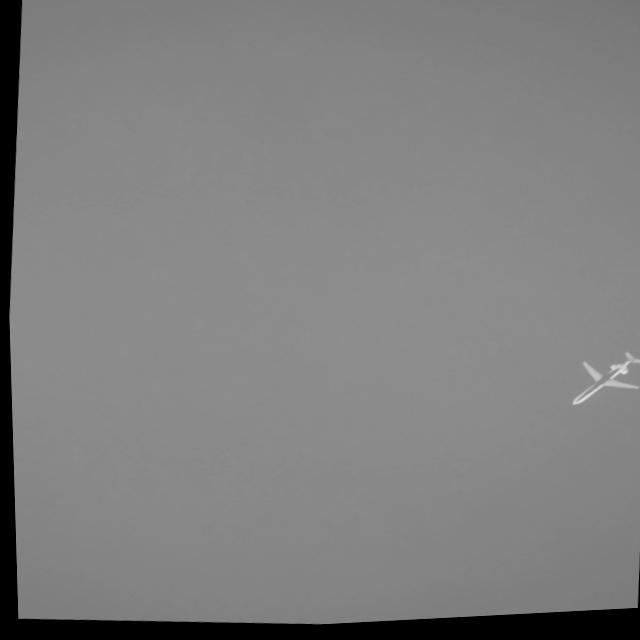aeroplane: (560, 351, 640, 416)
